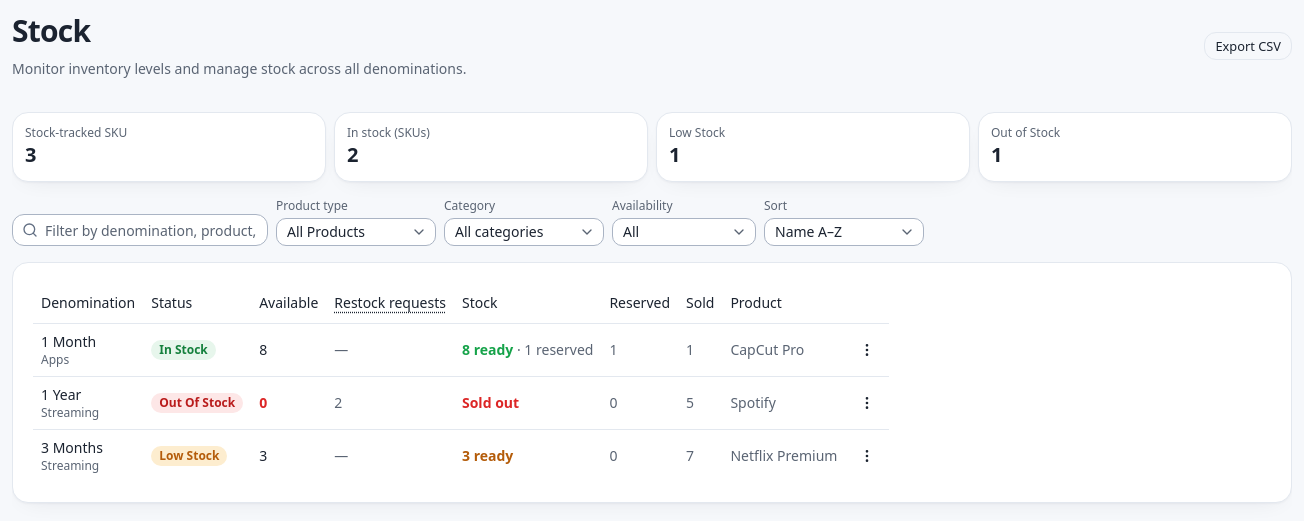
Test: StockPage › row overflow menu hides Download Credentials when the row is out of stock
Expected: the text "1 Year" is shown, [41, 385, 81, 404]
What coordinates should you click on to do the following:
click the button named "Actions for 1 Year"
I would click on:
 (867, 403)
Its box is [853, 389, 881, 417].
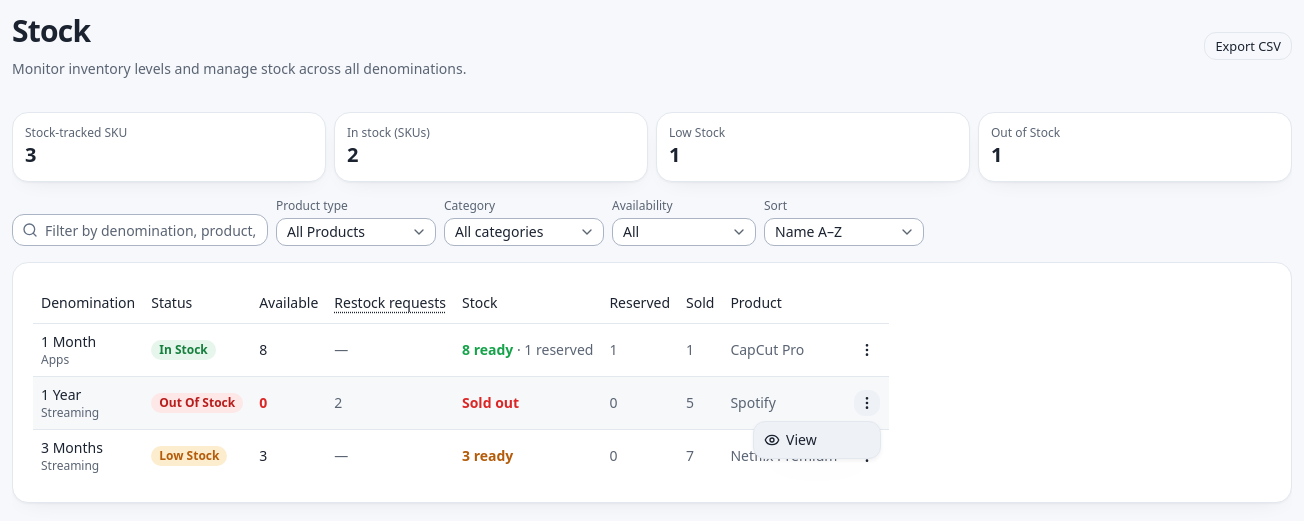
Expected: the menu item "View" is shown, [764, 430, 817, 449]
